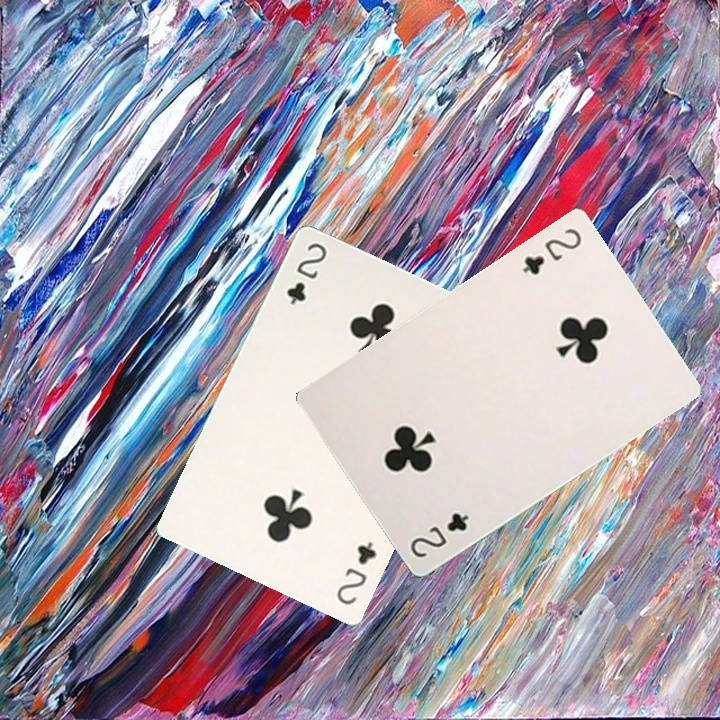2c: (518, 224, 585, 278), (406, 508, 472, 561), (332, 537, 379, 608), (282, 238, 329, 307)
